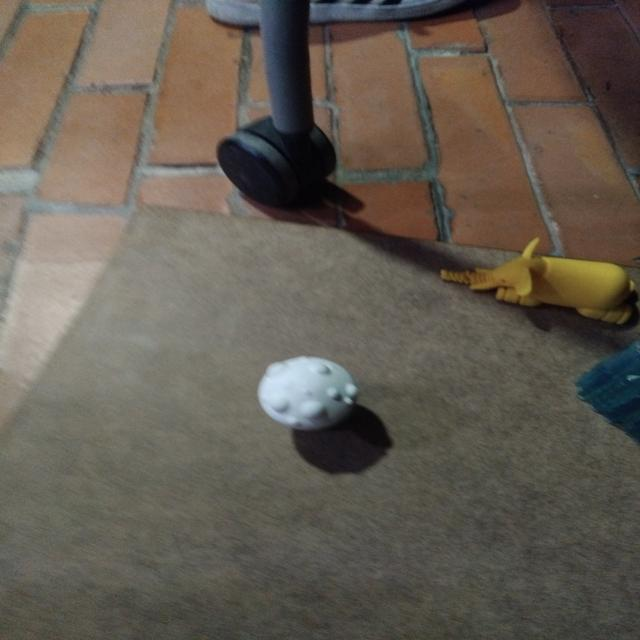Hongo: (243, 344, 373, 438)
